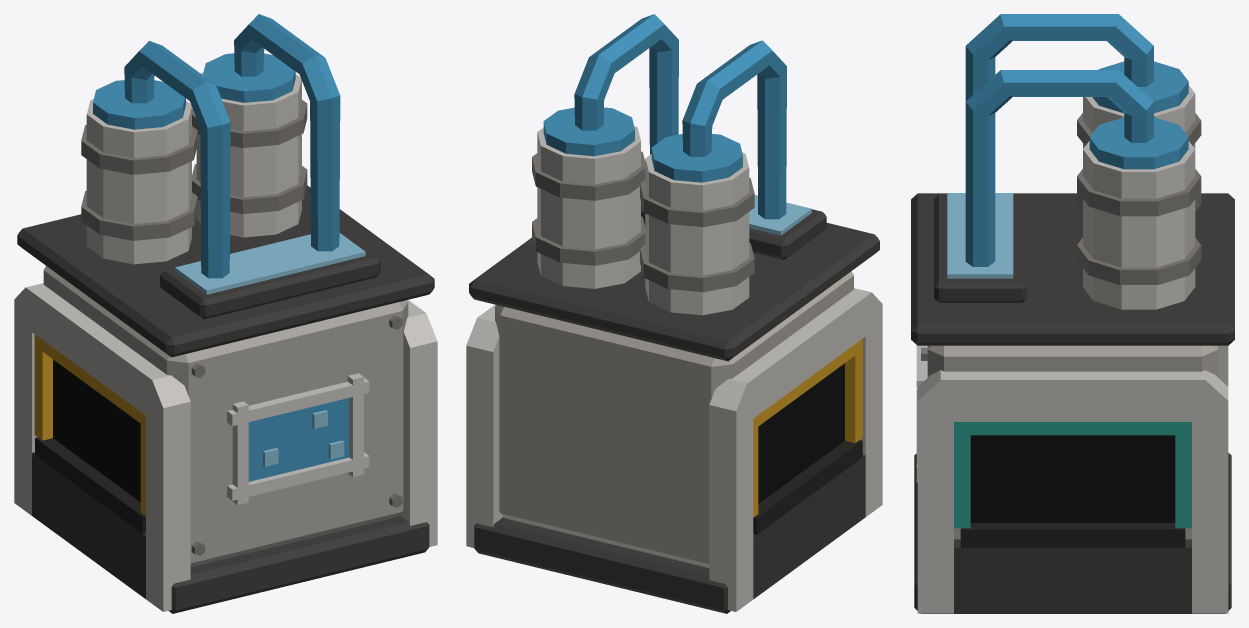
Rendered from washer.fbx.
3 views of the same model, side by side, from view 1: azimuth 30°, elevation 25°; view 2: azimuth 150°, elevation 25°; view 3: azimuth 270°, elevation 25° (orthographic). The views are drawn at different scales.
Parts seen in each view (by area): view 1: washer; view 2: washer; view 3: washer.
Boxes of the visible parts, <box> form: washer: <box>14,14,437,613</box>; washer: <box>466,14,882,613</box>; washer: <box>911,14,1234,613</box>.
Size of the model in its own units: 3 by 5.09 by 2.94.
